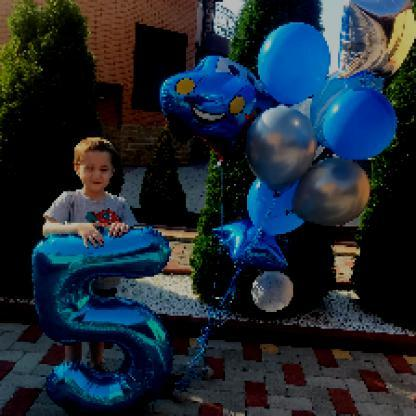child: (43, 138, 140, 374)
